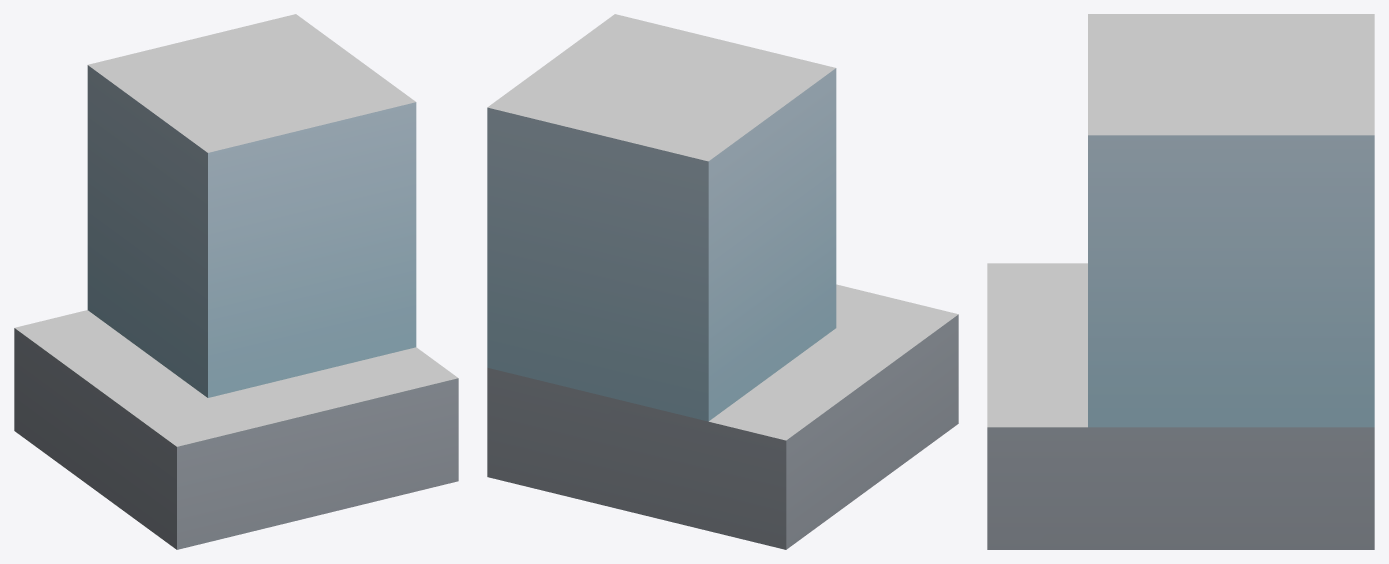
Rendered from collumn1_corner_top.fbx.
The picture shows the model from 3 angles, left to right: view 1: azimuth 30°, elevation 25°; view 2: azimuth 150°, elevation 25°; view 3: azimuth 270°, elevation 25°; orthographic projection. The views are drawn at different scales.
Visible parts, largest first — view 1: collumn1_corner_top; view 2: collumn1_corner_top; view 3: collumn1_corner_top.
Boxes of the visible parts, bbox=[...] form: collumn1_corner_top: bbox=[14, 14, 458, 549]; collumn1_corner_top: bbox=[487, 14, 958, 549]; collumn1_corner_top: bbox=[987, 14, 1374, 549].
Bounding box in the file's own units: 1.69 × 2 × 1.69.
